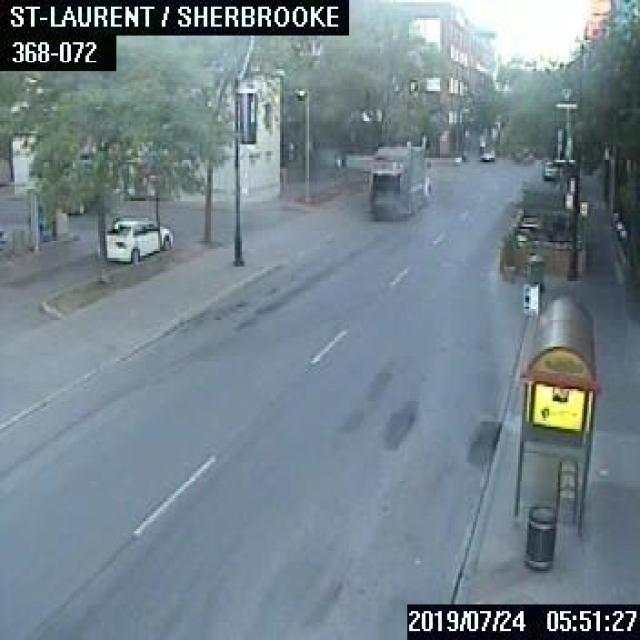vehicle: (367, 142, 430, 218), (96, 215, 172, 260), (476, 142, 494, 160), (542, 158, 557, 178)
